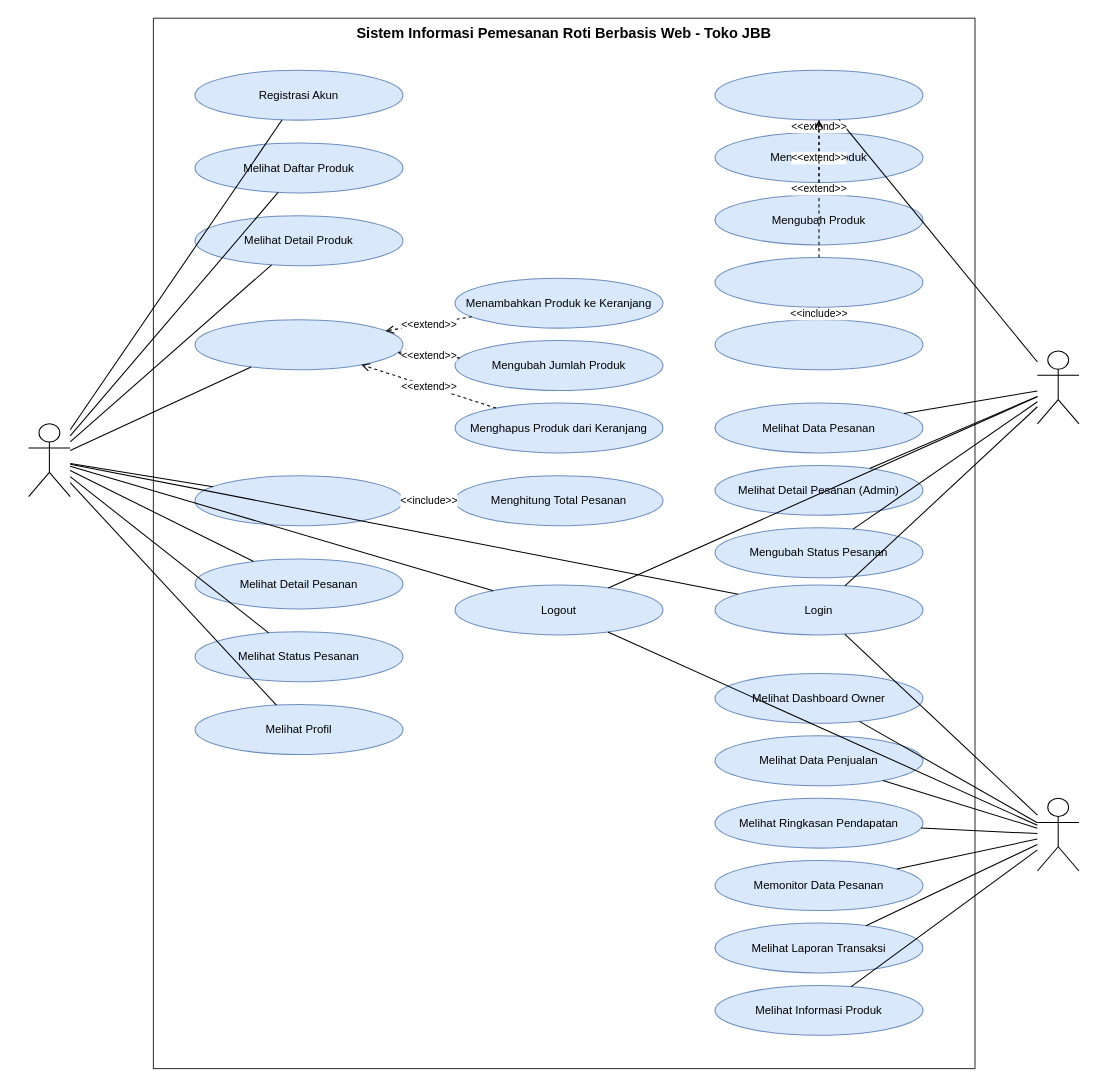
This 1097x1087 diagram has some shape labels left out. Here are the shapes that lost their labels. From the top down, the box of each, then its label:
(714, 69, 923, 120): Mengelola Produk
(714, 256, 923, 307): Menghapus Produk
(194, 319, 403, 370): Mengelola Keranjang
(714, 319, 923, 370): Konfirmasi Penghapusan
(1036, 350, 1079, 424): Admin
(28, 423, 70, 497): Pelanggan
(194, 475, 403, 526): Membuat Pesanan
(1036, 797, 1079, 871): Owner
